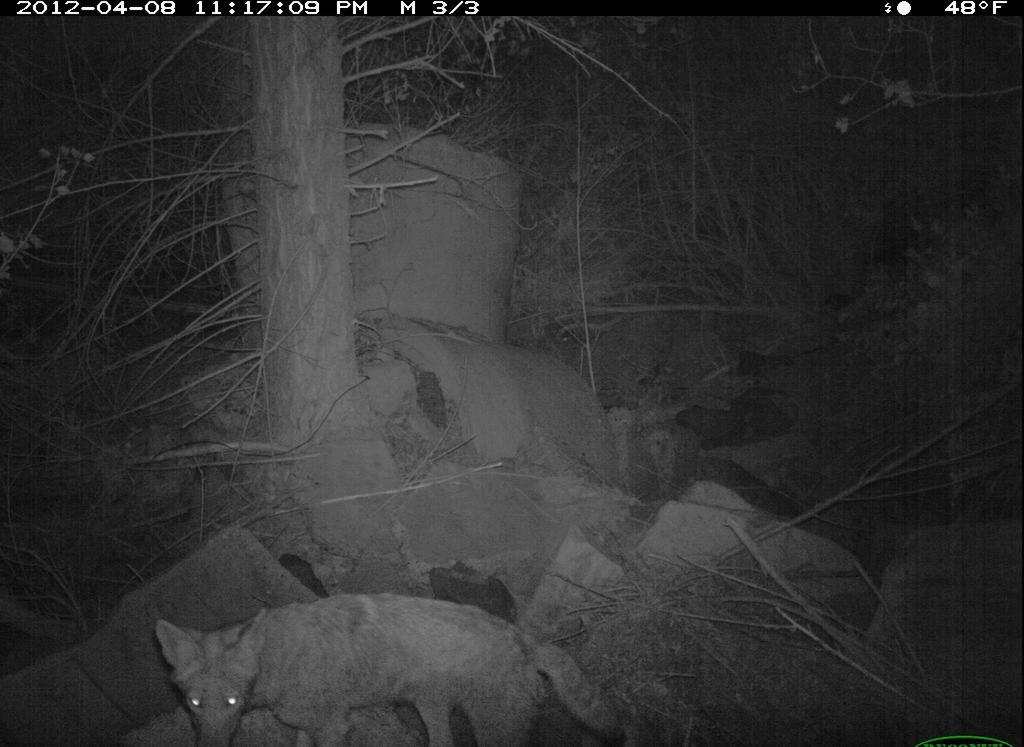coyote: (141, 565, 633, 747)
